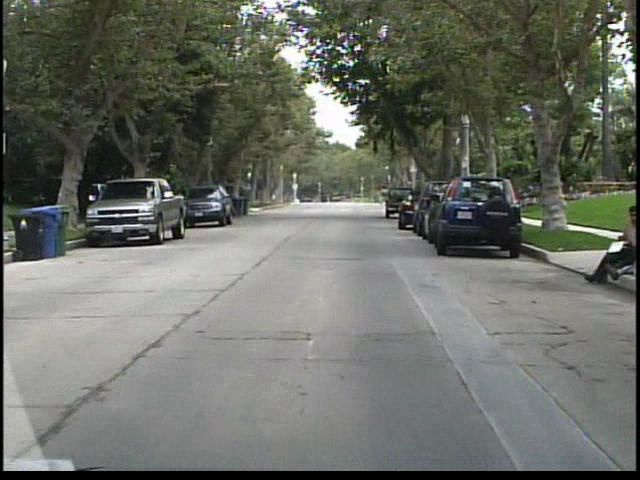person: (565, 199, 626, 277)
